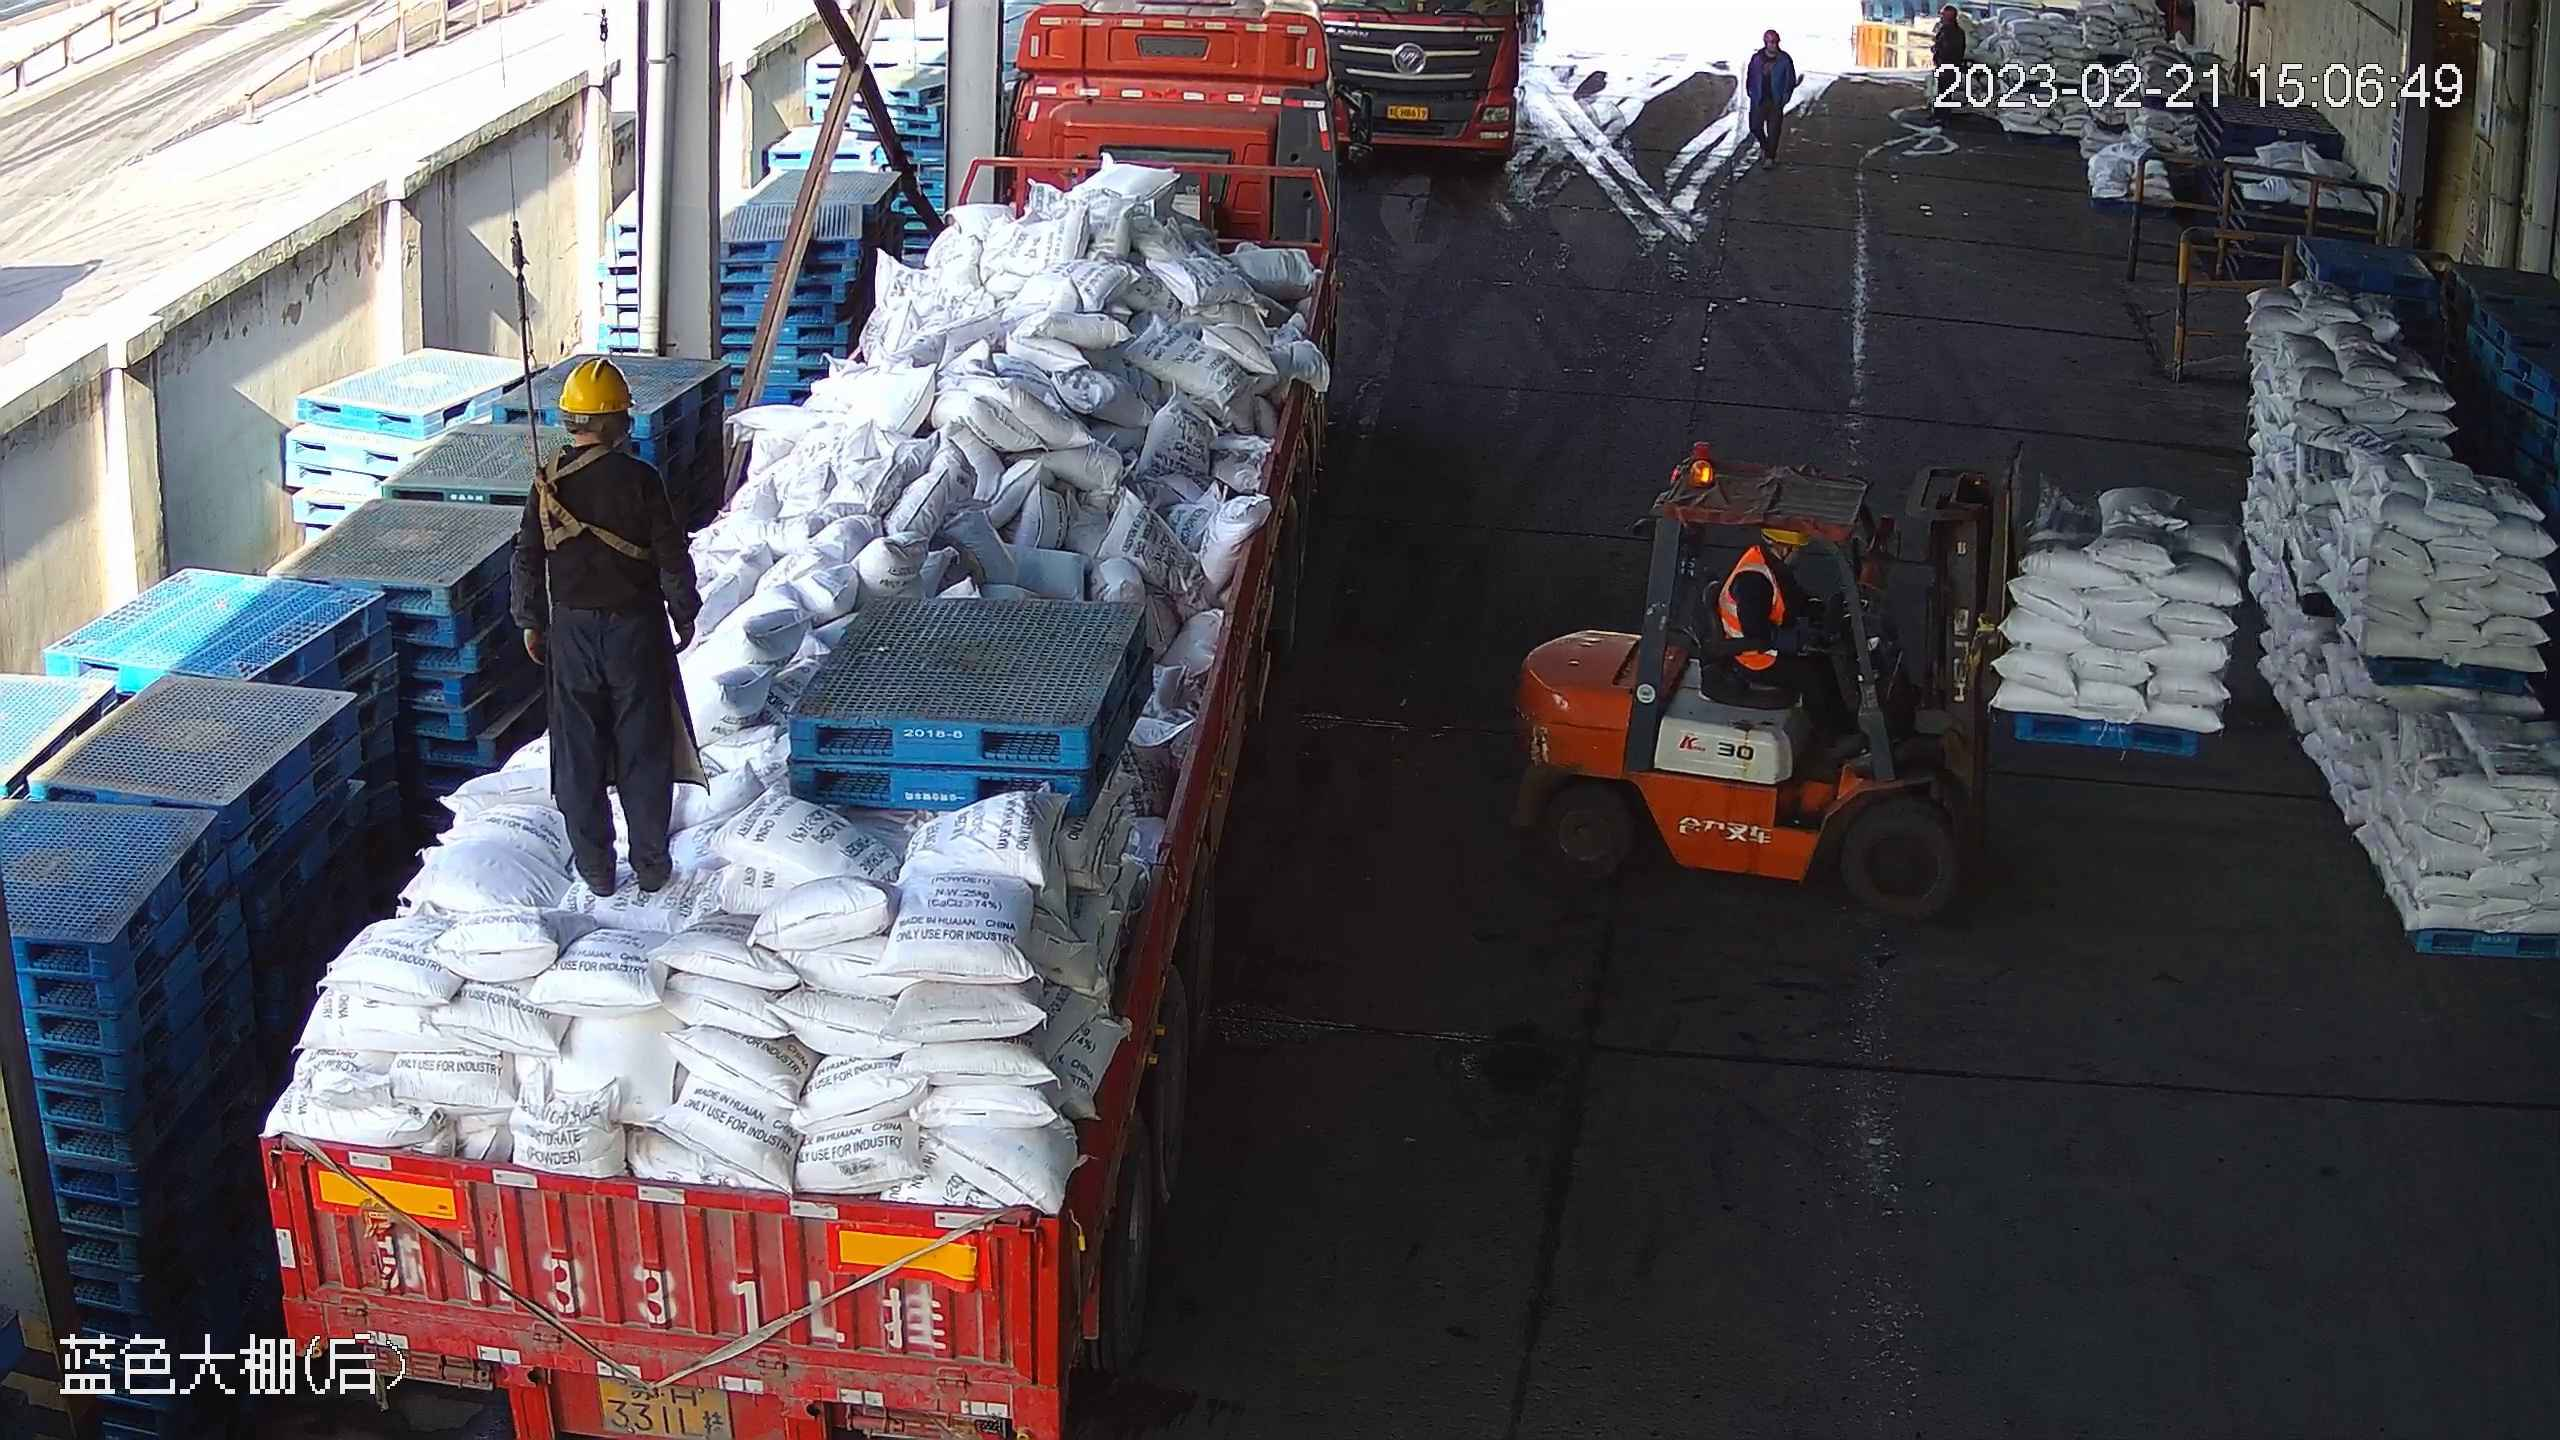belt: (521, 431, 654, 558)
head: (525, 354, 663, 497), (1718, 525, 1796, 599)
helmet: (558, 354, 635, 414)
people: (506, 354, 706, 898), (1720, 527, 1863, 758)
truck: (254, 1, 1349, 1434)
